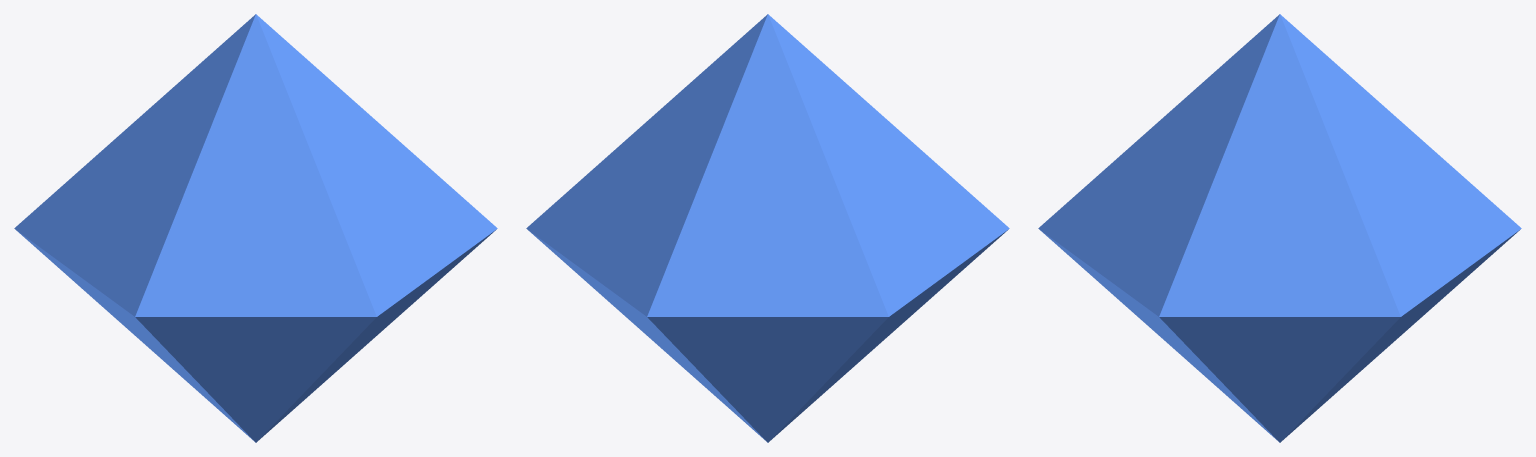
File: plort.fbx
3 renders of one model, left to right at view 1: azimuth 30°, elevation 25°; view 2: azimuth 150°, elevation 25°; view 3: azimuth 270°, elevation 25°, orthographic.
Visible parts, largest first — view 1: Sphere; view 2: Sphere; view 3: Sphere.
Boxes of the visible parts, left/top/right/bottom form: Sphere: left=14, top=14, right=497, bottom=442; Sphere: left=526, top=14, right=1009, bottom=442; Sphere: left=1038, top=14, right=1521, bottom=442.
Size of the model in its own units: 150 by 169 by 173.
Materials: 1 (1 with a texture image).
